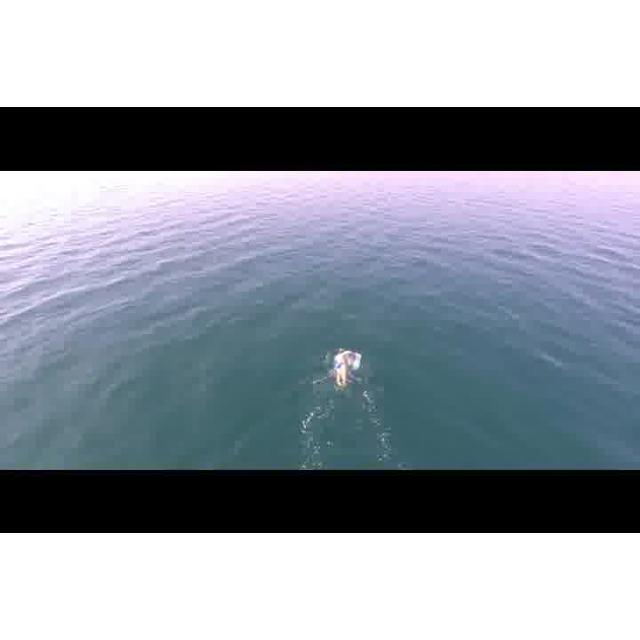human: (327, 348, 363, 389)
